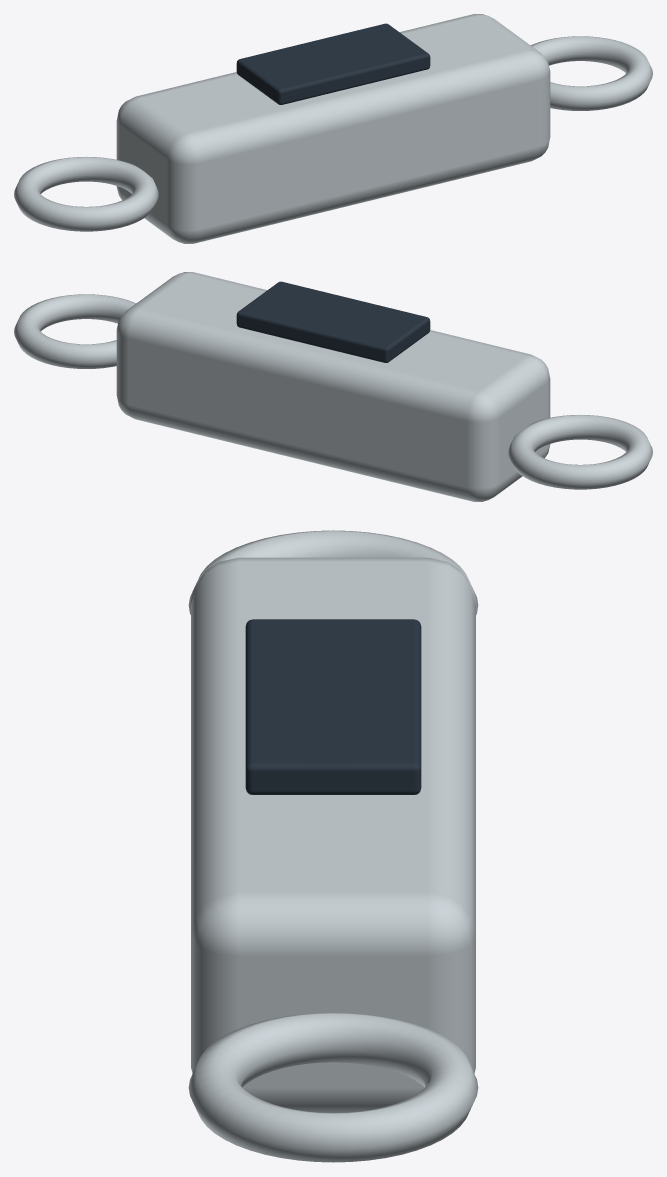
File: squash-club-and-racket-workshop-tension-calibrator-c6f4e9d3__29757.glb
3 views of the same model, one above another, from view 1: azimuth 30°, elevation 25°; view 2: azimuth 150°, elevation 25°; view 3: azimuth 270°, elevation 25° (orthographic). The views are drawn at different scales.
Visible parts, largest first — view 1: tension-calibrator; view 2: tension-calibrator; view 3: tension-calibrator.
Boxes of the visible parts, x1,y1,x2,y2 form: tension-calibrator: [14, 14, 652, 243]; tension-calibrator: [14, 272, 652, 501]; tension-calibrator: [188, 530, 478, 1162].
Bounding box in the file's own units: 0.326 × 0.064 × 0.066.
